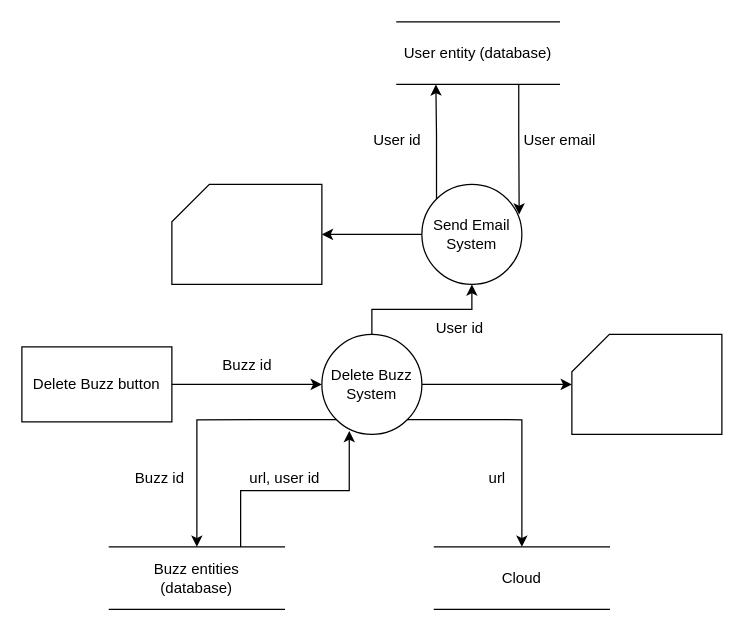
Image size: 744x631. Some labels were removed from this diagram. The centre of each missing label's shape, as x and y in pixels:
"Delete success; go to main page" goes at pixel 646 383.
"Inform email to user" goes at pixel 246 233.
